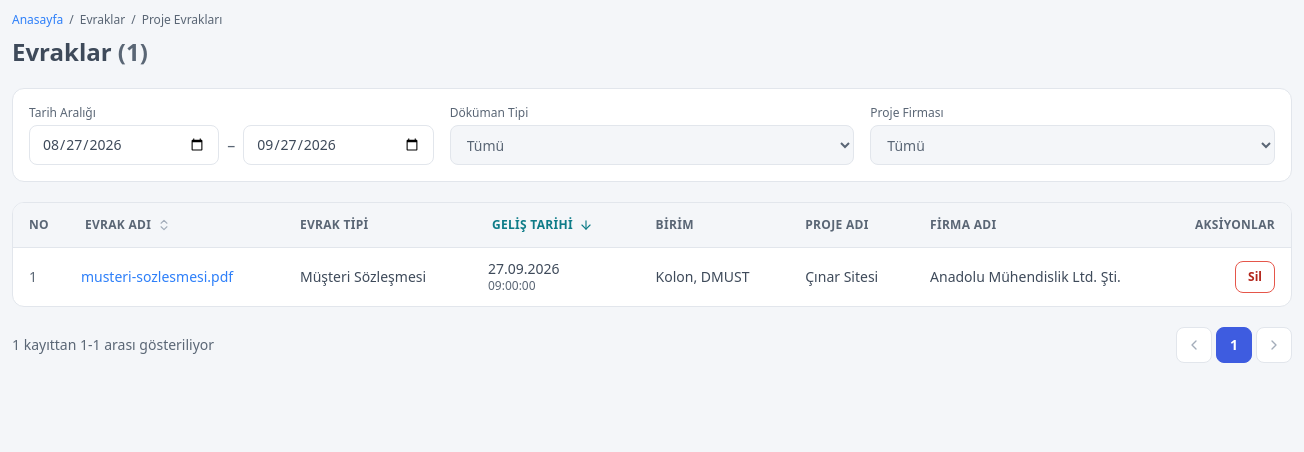
it: DocumentListPage › filtre uygulanınca kriterler URL'e yazılır ve sayfa 1'e döner
Expected: the table is shown, [13,203,1291,306]
Select "Ruhsat" in the dropdown labelled "Döküman Tipi". click: (652, 145)
box: [450,125,854,165]
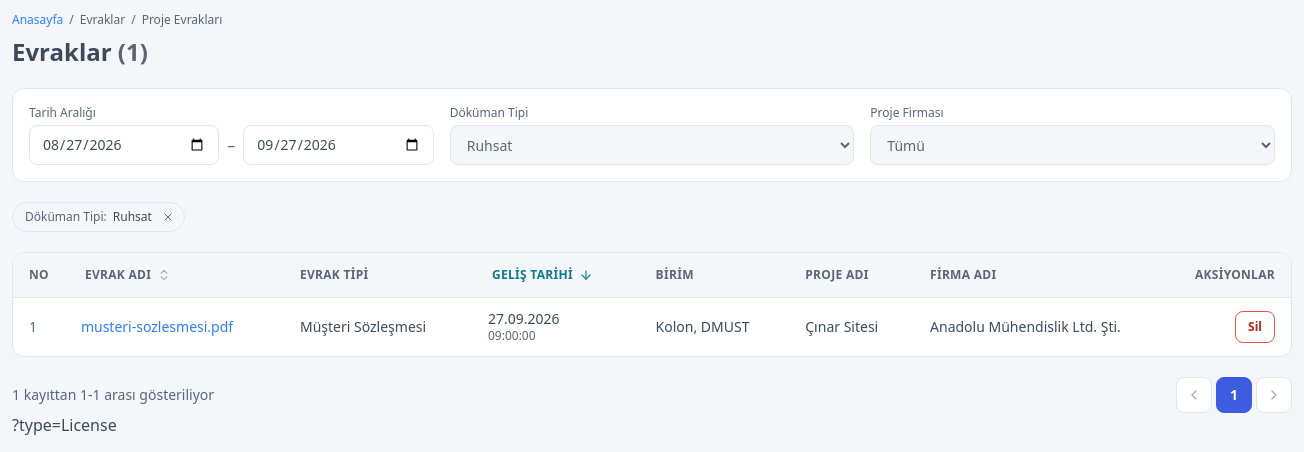
Expected: the text with test id "search" shows "type=License", [12,414,117,436]
